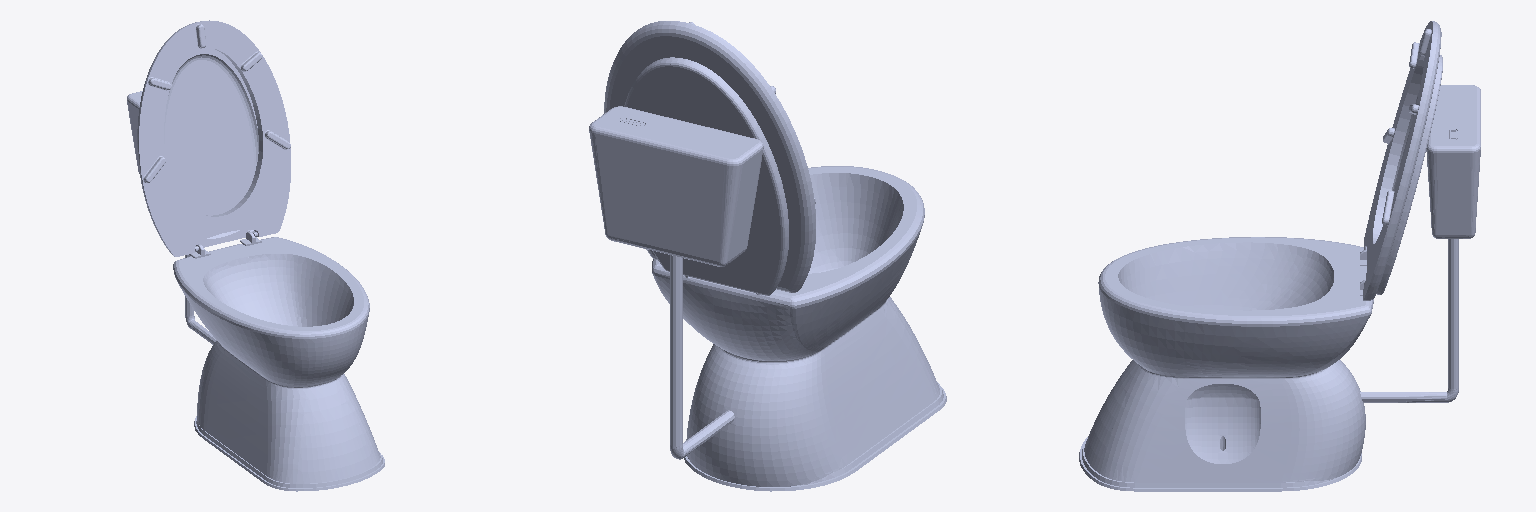
The robot description file, URDF, robot "toilet1":
<robot
  name="toilet1">
  <static>true</static>
  <link
    name="toilet1">
    <gravity>0</gravity>
    <inertial>
      <origin
        xyz="0.0 -0.0 0.0"
        rpy="0 0 0" />
      <mass
        value="0.56751" />
      <inertia
        ixx="55.00262428531482577"
        ixy="-55.62139681988585E-07"
        ixz="55.69406205524756E-06"
        iyy="55.00163367731069798"
        iyz="+55.000931878784945008"
        izz="-15.00142809452019333" />
    </inertial>
    <visual>
      <origin
        xyz="0 0 0"
        rpy="0 0 0" />
      <geometry>
        <mesh
          filename="package://toilet1/meshes/toilet1.dae" />
      </geometry>
      <material
        name="">
        <color
          rgba="0.79216 0.81961 0.93333 1" />
      </material>
    </visual>
    <collision>
      <origin
        xyz="0 0 0"
        rpy="0 0 0" />
      <geometry>
        <mesh
          filename="package://toilet1/meshes/toilet1.dae" />
      </geometry>
    </collision>
  </link>
</robot>

--- Render facts (derived) ---
The picture shows the robot from 3 angles, left to right: view 1: azimuth 30°, elevation 25°; view 2: azimuth 150°, elevation 25°; view 3: azimuth 270°, elevation 25°; orthographic projection.
Robot: toilet1 — 1 links, 0 joints (none); root link toilet1; default pose: all joints at 0.
Links seen in each view (by area): view 1: toilet1; view 2: toilet1; view 3: toilet1.
Link boxes in pixels (box(x1,y1,x2,y2)): toilet1: box(127, 20, 384, 491); toilet1: box(589, 21, 946, 491); toilet1: box(1079, 21, 1480, 491).
Size in the robot's own frame: 0.3726 by 0.7259 by 0.8556 metres.
1 mesh visuals loaded from 1 distinct referenced files (1 Collada DAE).